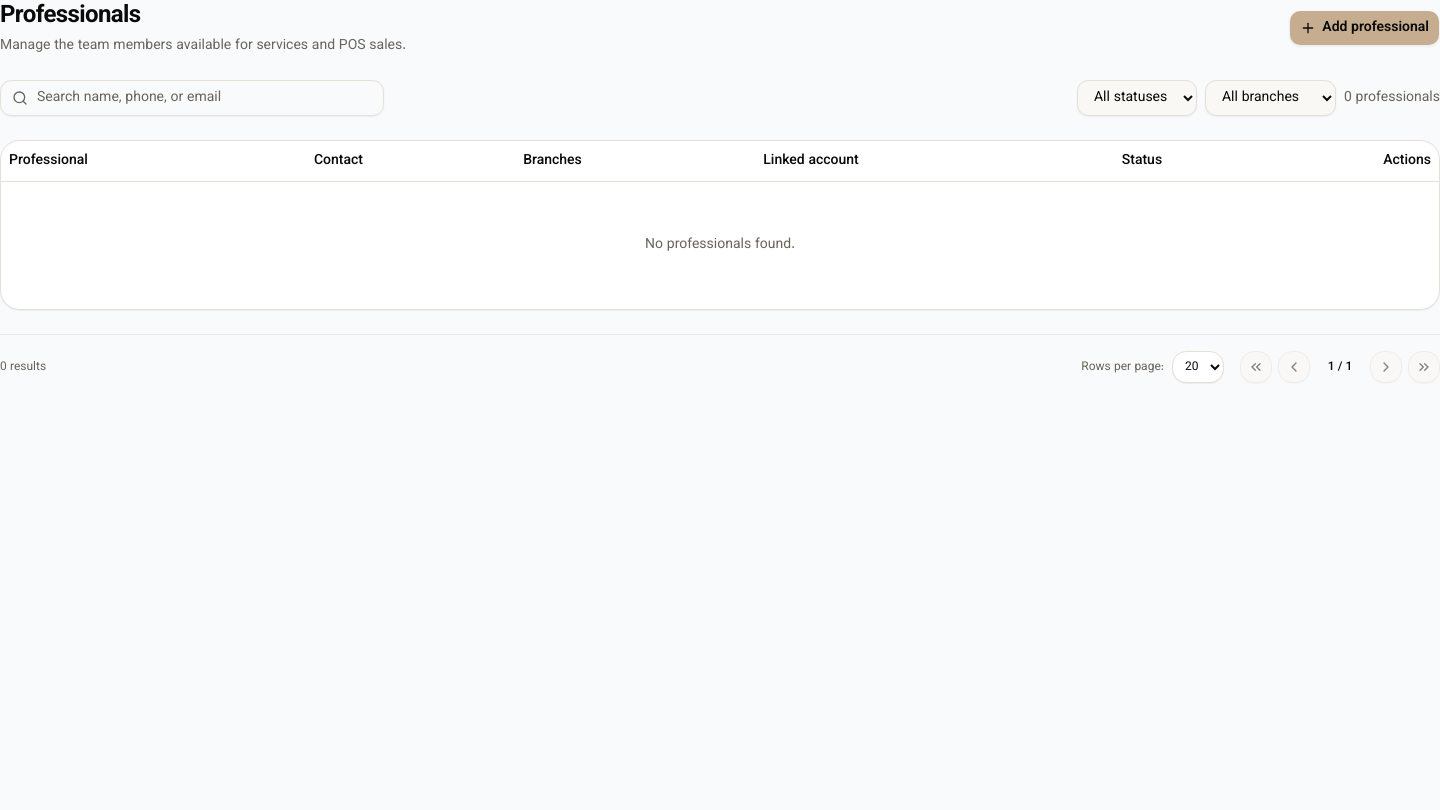
Test: ProfessionalsPage › renders the empty state and opens a validated create form
The image size is (1440, 810).
Expected: the text "No professionals found." is shown, [1,181,1439,309]
Step 1. Click the button "Add professional" → (1365, 28), box [1289,10,1439,46]
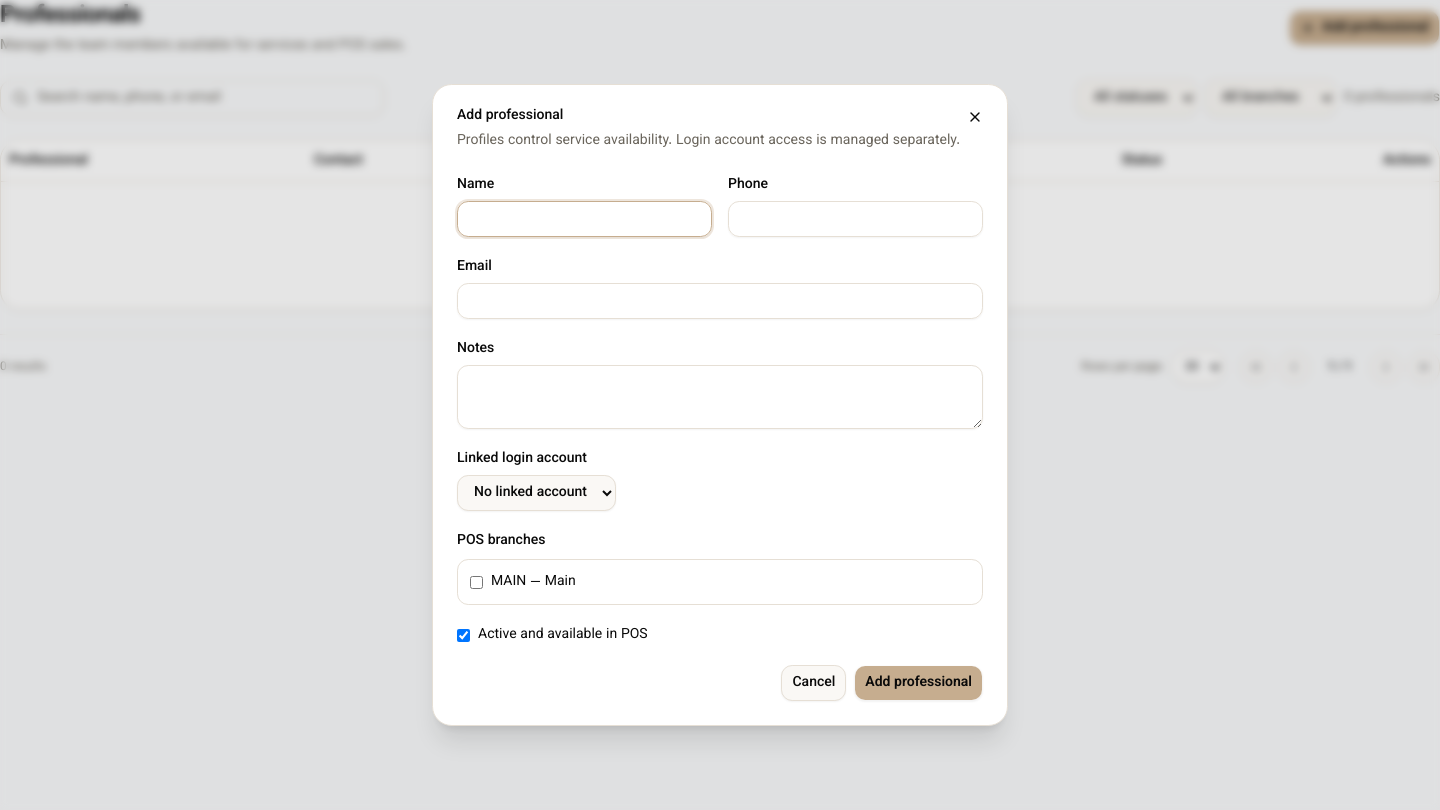
Result: the dialog shows "Add professional" at [457,105,563,127]
Result: the text "POS branches" is shown at [457,530,545,552]
